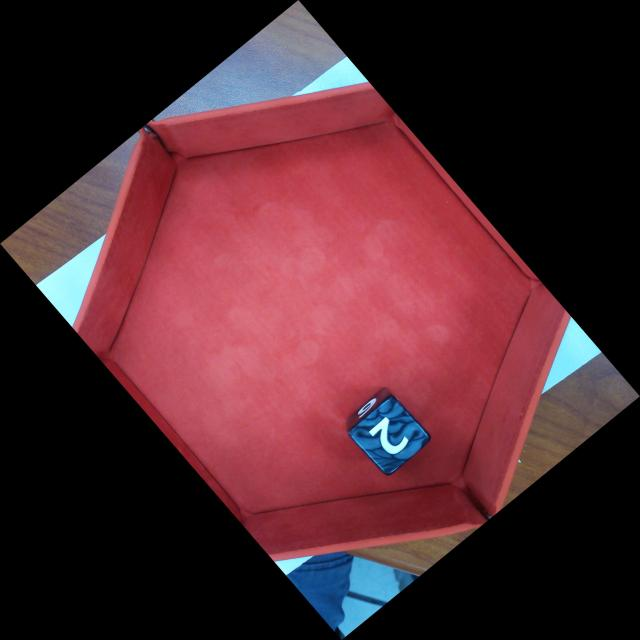dice: (347, 394, 431, 476)
